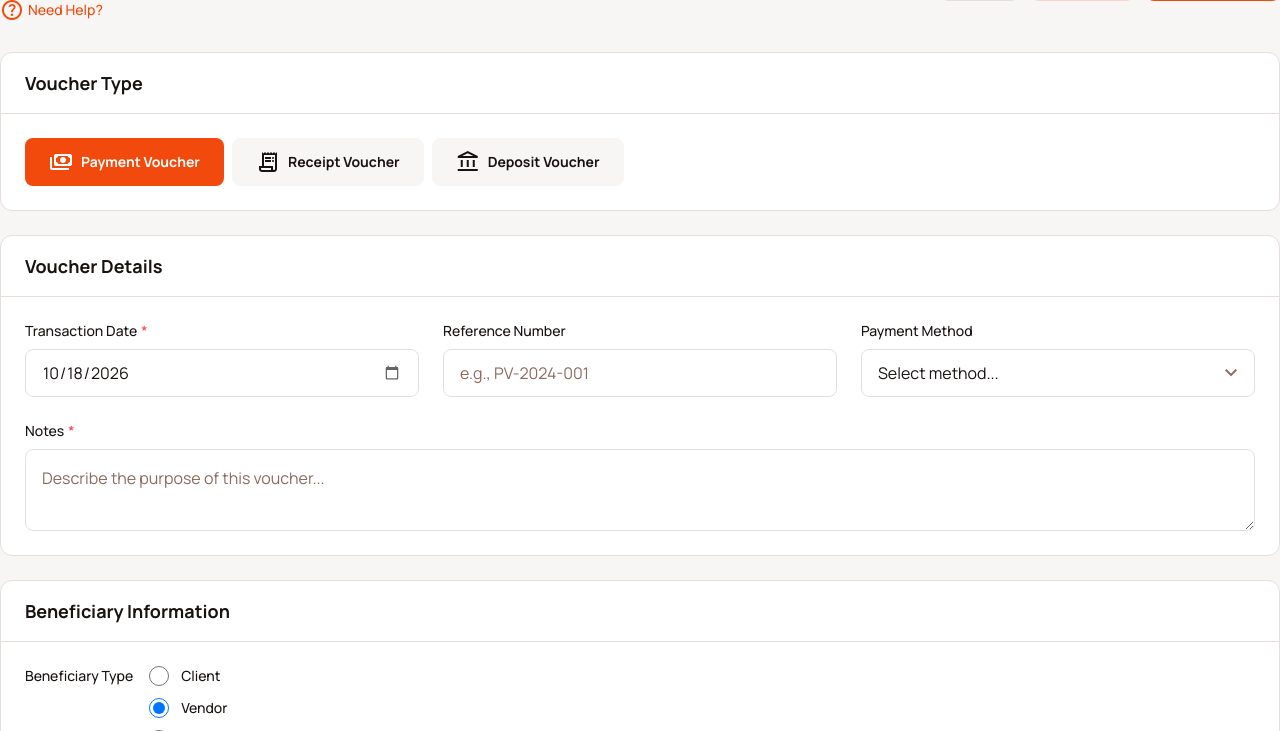
Test case: VoucherFormPage type switching › deposit behaves like a receipt
Click the button with test id "voucher-type-deposit" at x=528, y=162, box [432, 138, 624, 186]
(page scrolled)
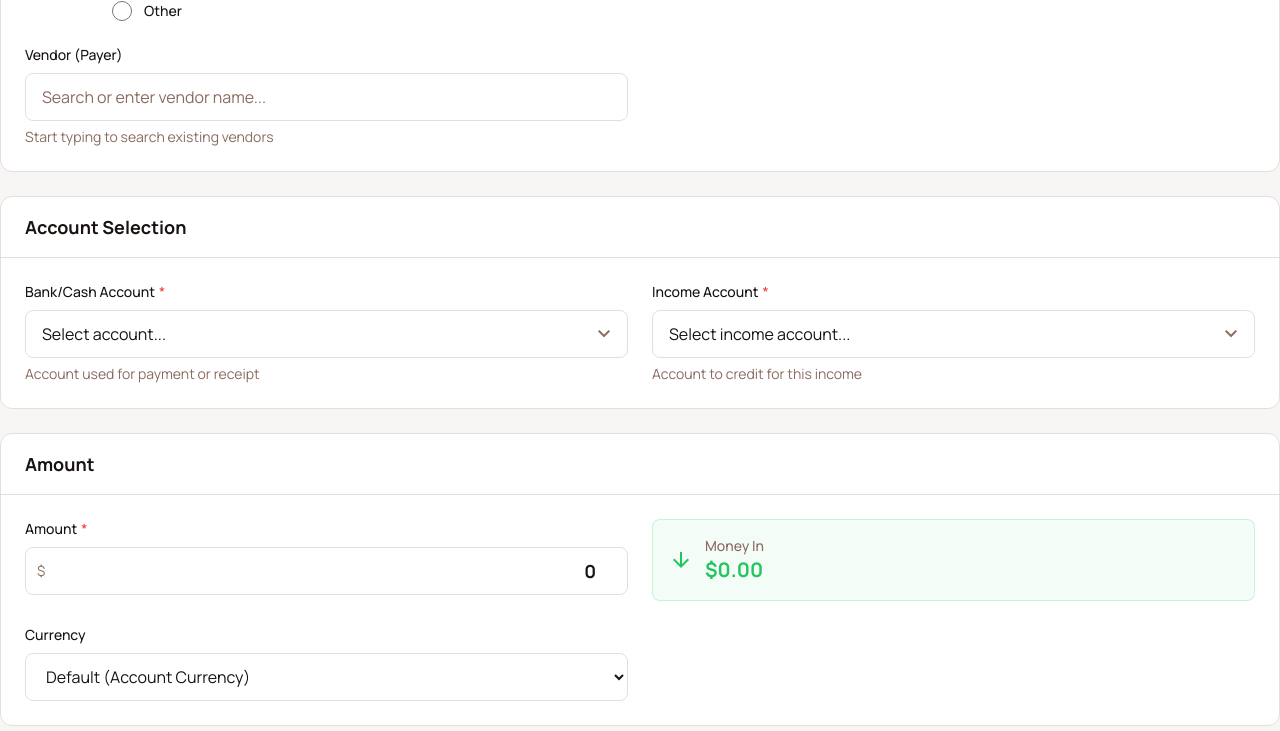
Check: the dropdown with test id "voucher-income-account-select" is shown, box [652, 310, 1255, 358]
